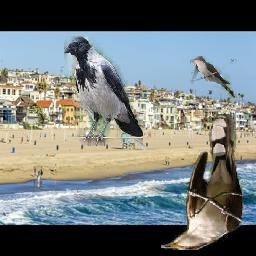Crow: (65, 36, 144, 146)
Cuckoo: (162, 114, 245, 250), (191, 56, 238, 98)
